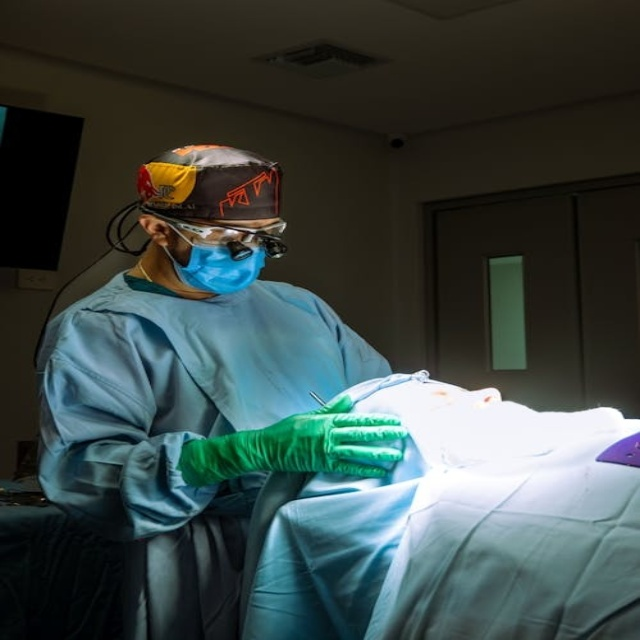Gafas: (149, 209, 290, 258)
Guantes: (180, 394, 407, 485)
Mascara: (156, 221, 272, 295)
